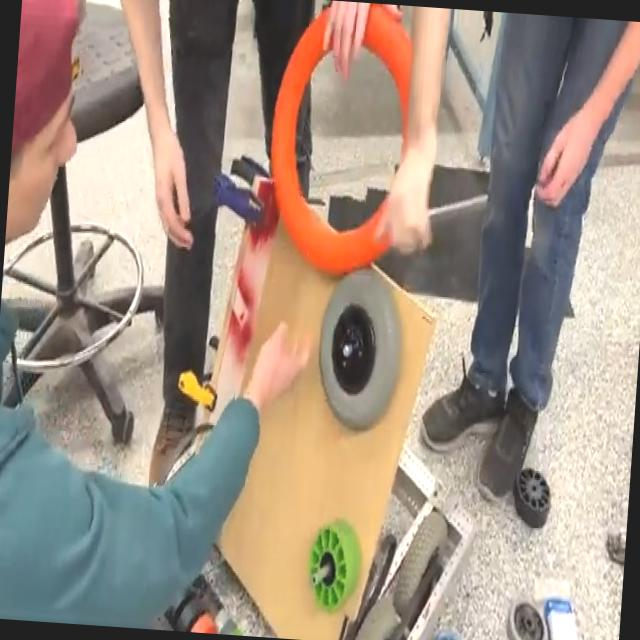note: (260, 0, 420, 283)
